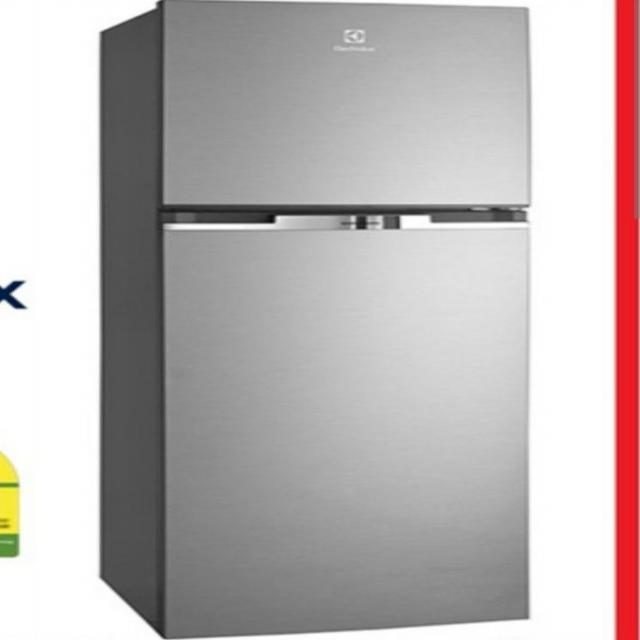refrigerator: (99, 0, 528, 640)
